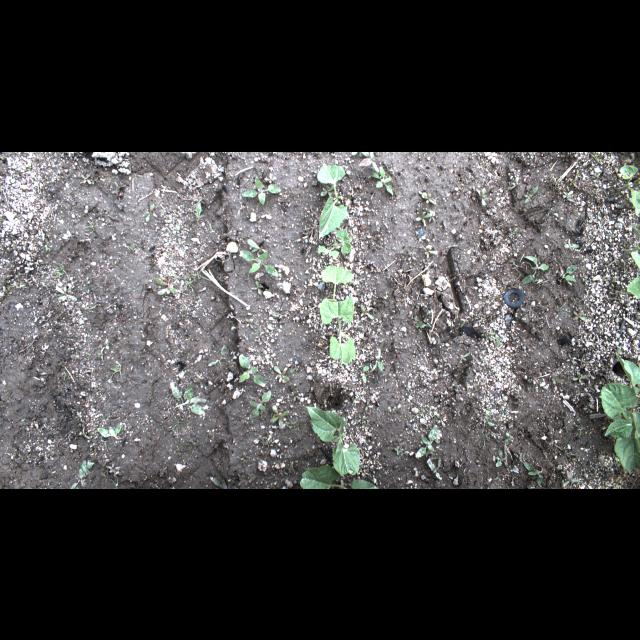crop: (600, 350, 640, 474), (306, 406, 360, 476), (319, 294, 355, 364), (317, 163, 347, 239), (300, 464, 378, 488), (321, 264, 352, 306), (620, 164, 640, 216), (317, 228, 351, 256), (627, 250, 639, 296)
weed: (171, 379, 207, 415), (238, 248, 280, 276), (243, 176, 281, 204), (238, 354, 264, 386), (175, 268, 212, 290), (521, 254, 549, 282), (416, 424, 438, 458), (71, 459, 95, 487), (250, 389, 272, 419), (372, 165, 392, 195), (522, 460, 544, 486), (154, 274, 180, 294), (270, 404, 290, 426), (208, 344, 228, 366), (358, 152, 379, 172), (96, 424, 124, 438), (561, 468, 581, 486), (56, 285, 78, 301), (247, 237, 269, 253), (428, 456, 442, 480), (192, 196, 204, 218), (274, 366, 290, 382), (522, 186, 538, 202), (559, 266, 577, 280), (414, 316, 428, 332), (415, 212, 433, 224), (319, 184, 336, 196), (484, 409, 496, 426), (284, 414, 298, 428), (424, 244, 438, 258), (563, 237, 579, 249), (105, 462, 122, 473), (361, 304, 374, 318), (497, 445, 505, 467), (572, 372, 588, 383), (111, 184, 122, 200), (478, 188, 488, 205), (422, 192, 436, 204), (507, 176, 521, 188), (170, 414, 180, 430), (56, 262, 66, 278), (146, 205, 156, 221), (360, 364, 368, 384), (251, 281, 263, 293), (632, 222, 640, 240), (561, 186, 573, 198), (289, 390, 301, 402), (572, 311, 586, 321), (556, 300, 566, 314), (436, 414, 446, 428), (502, 432, 514, 442), (460, 315, 470, 327), (84, 218, 96, 228), (80, 173, 92, 183), (396, 446, 408, 456), (566, 352, 576, 363), (112, 364, 122, 374), (460, 352, 470, 362), (589, 151, 599, 161), (277, 467, 287, 477), (86, 175, 98, 183), (240, 452, 248, 464), (58, 372, 68, 381), (509, 227, 518, 237), (426, 452, 434, 463), (245, 317, 253, 327), (376, 360, 384, 370), (388, 166, 398, 174), (112, 476, 118, 488), (351, 152, 369, 156), (172, 224, 180, 233), (364, 398, 370, 410), (578, 425, 584, 435), (606, 278, 616, 284), (44, 241, 50, 251), (574, 168, 580, 178), (290, 364, 296, 374), (358, 415, 368, 421), (489, 331, 495, 341), (454, 408, 460, 416), (22, 416, 26, 422), (594, 213, 600, 217)
